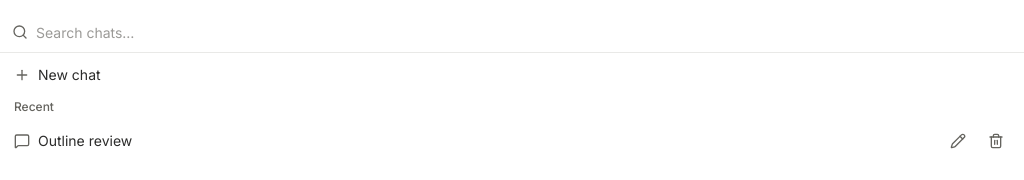
Test case: ChatsPanel rows › filters the list by title
Expected: the button "Outline review" is shown, [6,119,1018,163]
Type "budget" into the search field labelled "Search chats" at [524, 32], box [36,12,1012,52]
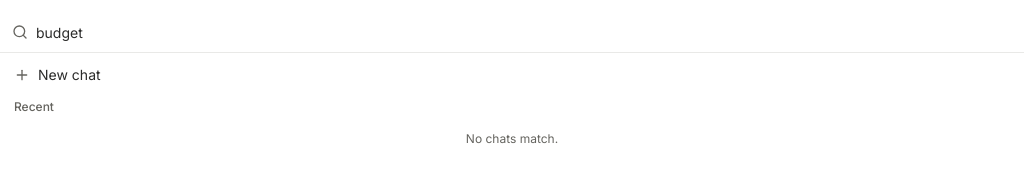
Expected: the button "Outline review" is gone
Expected: the text "No chats match." is shown, [466,131,558,146]
